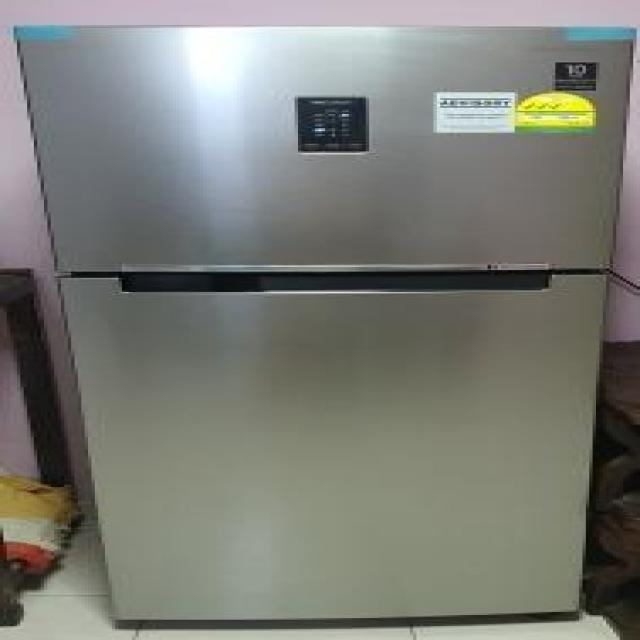refrigerator: (16, 26, 640, 623)
